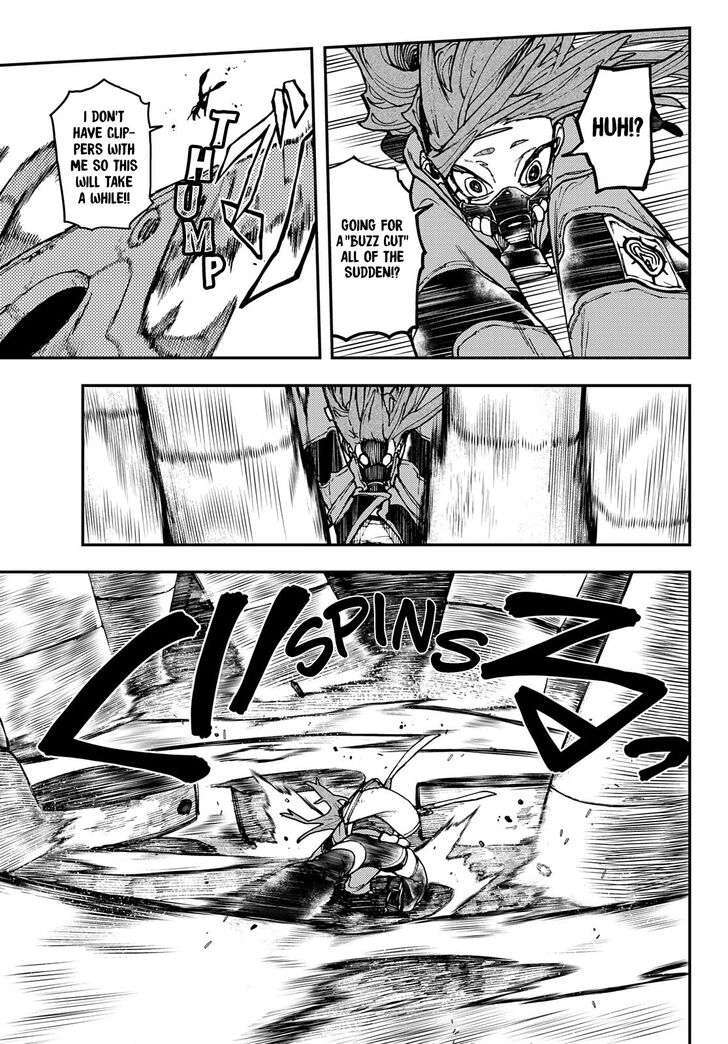bubble: (327, 156, 433, 341), (51, 78, 163, 230), (564, 64, 654, 193)
